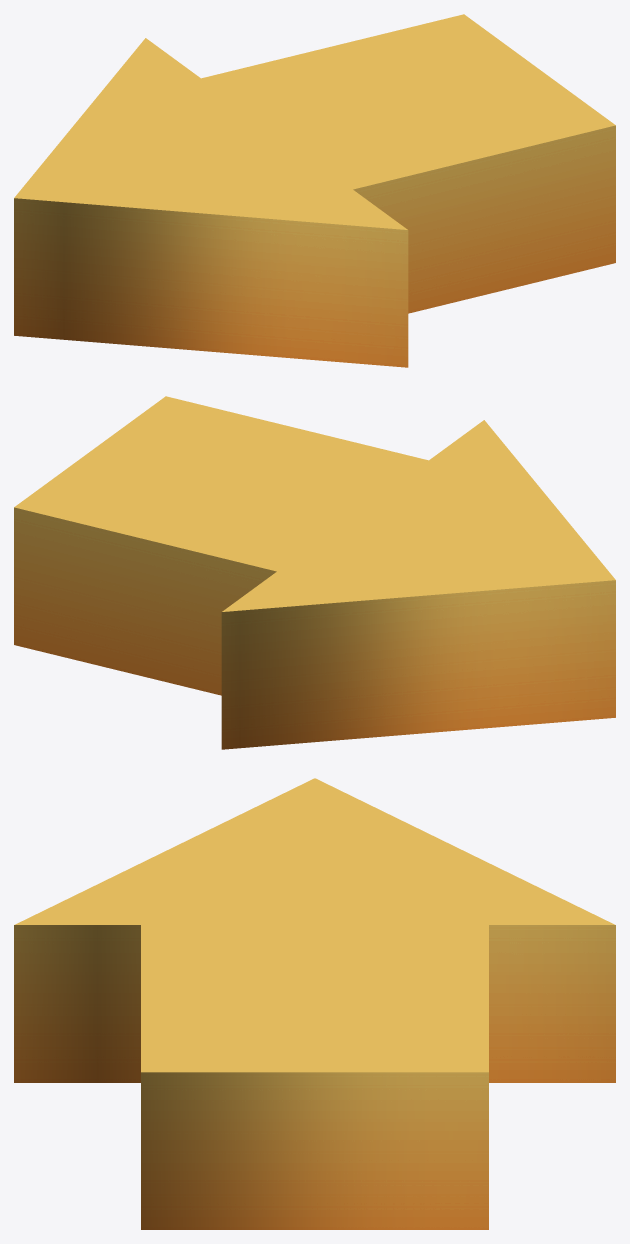
The model's file is arrow.glb.
The picture shows the model from 3 angles, top to bottom: view 1: azimuth 30°, elevation 25°; view 2: azimuth 150°, elevation 25°; view 3: azimuth 270°, elevation 25°; orthographic projection. The views are drawn at different scales.
Parts seen in each view (by area): view 1: arrow; view 2: arrow; view 3: arrow.
Boxes of the visible parts, left/top/right/bottom form: arrow: left=14, top=14, right=615, bottom=367; arrow: left=14, top=396, right=615, bottom=749; arrow: left=14, top=778, right=615, bottom=1229.
Bounding box in the file's own units: 0.8 × 0.2 × 0.692.
Materials: 1 (1 with a texture image).
